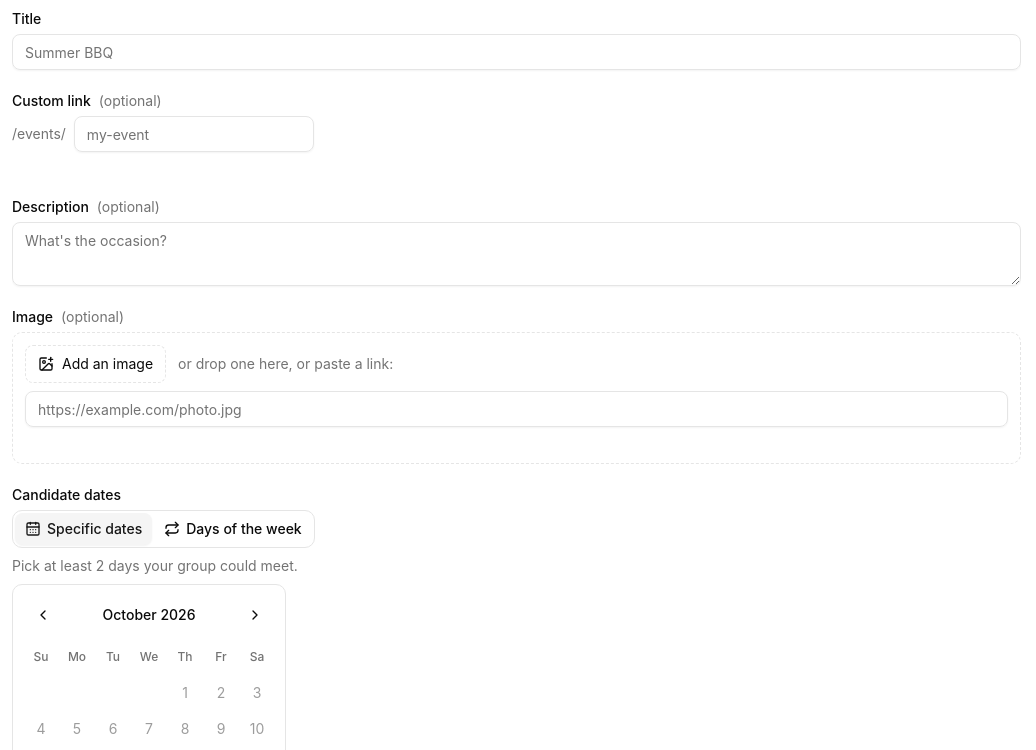
Test: EventForm slug availability › resets feedback while typing
In the field labelled "Custom link (optional)": (194, 134) [74,116,314,152], type "summer-bbq"
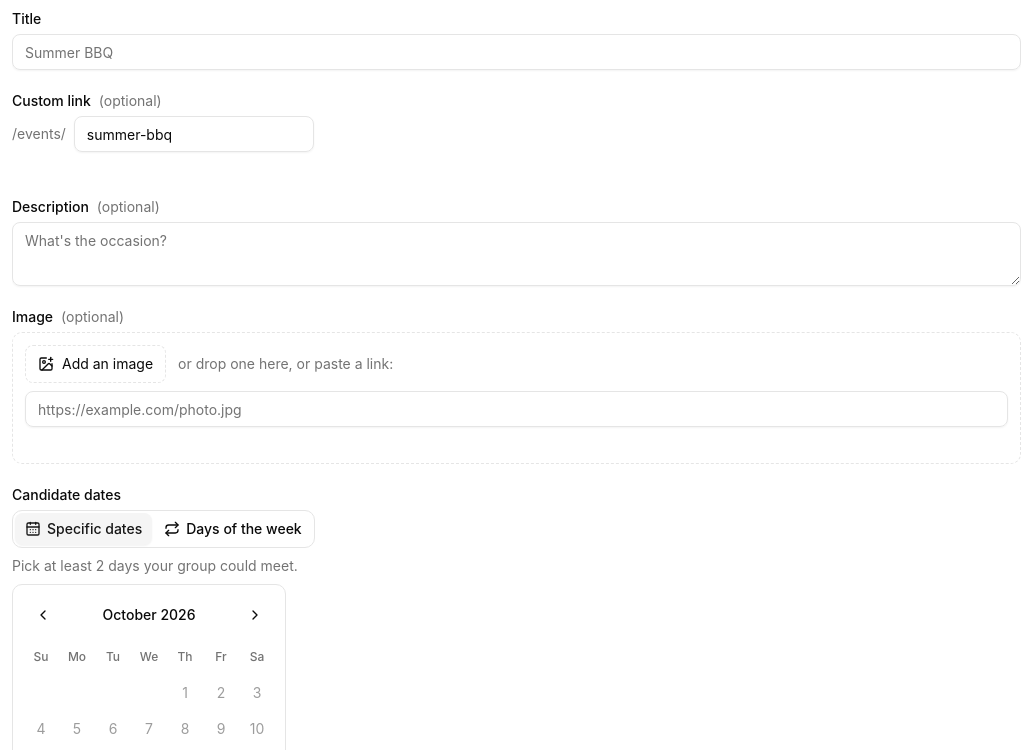
Leave the field labelled "Custom link (optional)", box [74,116,314,152]
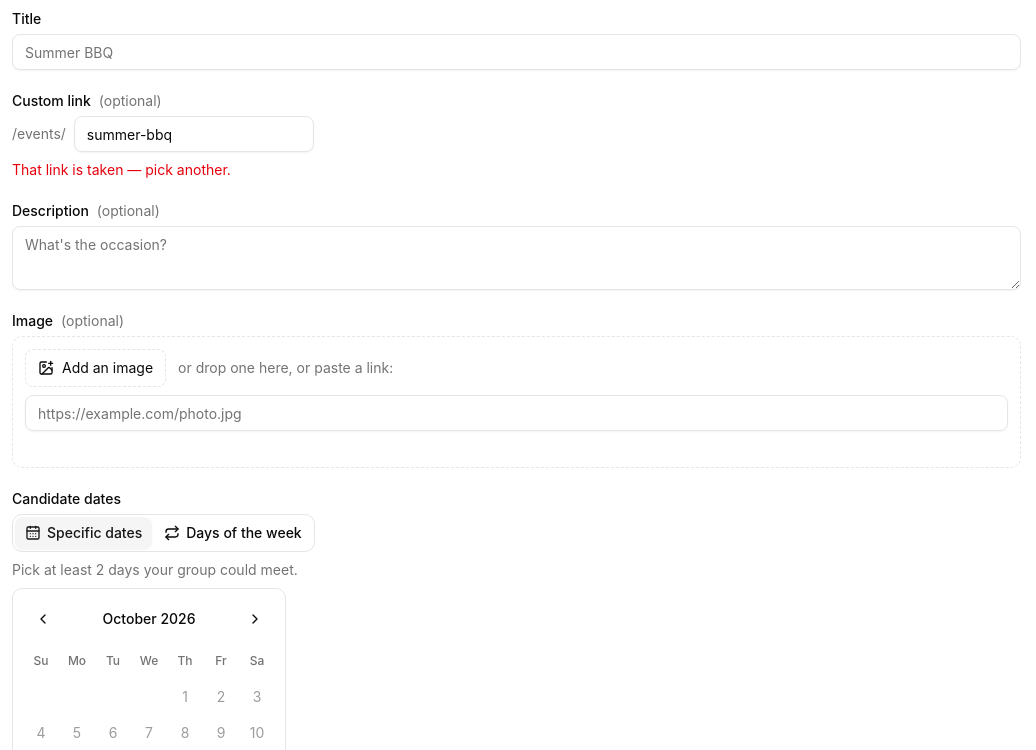
expect the text "That link is taken — pick another." is shown: met, box [12,161,231,178]
Replace the text in the field labelled "Custom link (optional)" with "summer-bbq-2": (194, 134) [74,116,314,152]
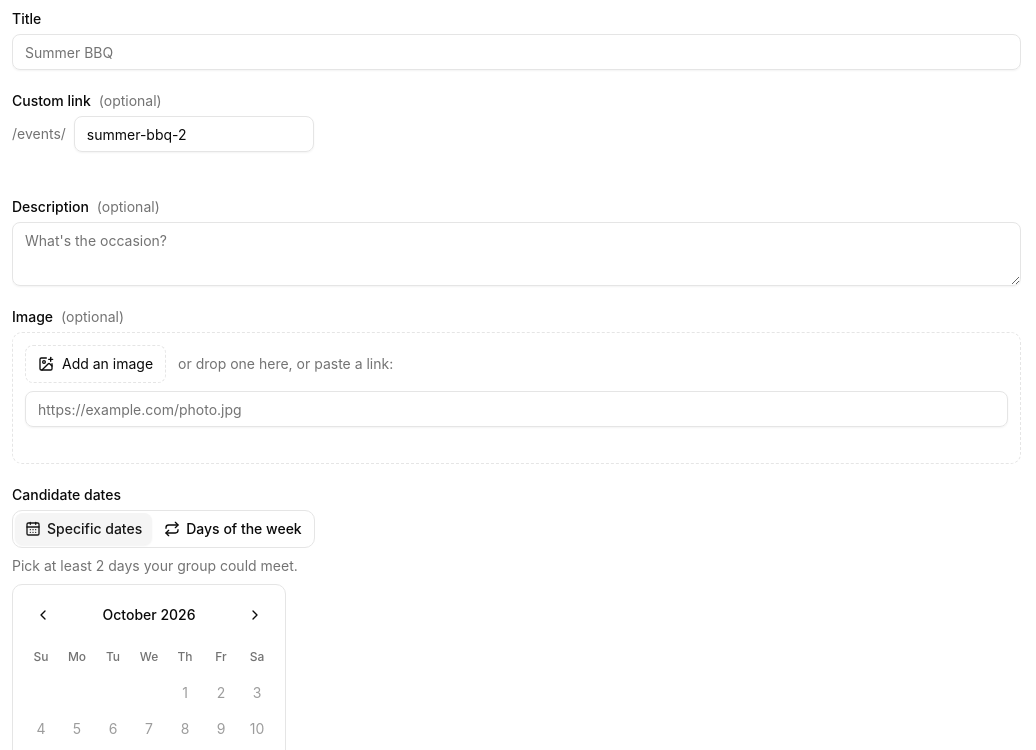
expect the text "That link is taken" is gone: met
